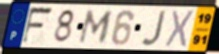6: (110, 9, 135, 47)
8: (52, 8, 75, 45)
F: (19, 6, 55, 46)
J: (140, 9, 169, 48)
M: (76, 9, 115, 45)
X: (163, 9, 196, 50)
